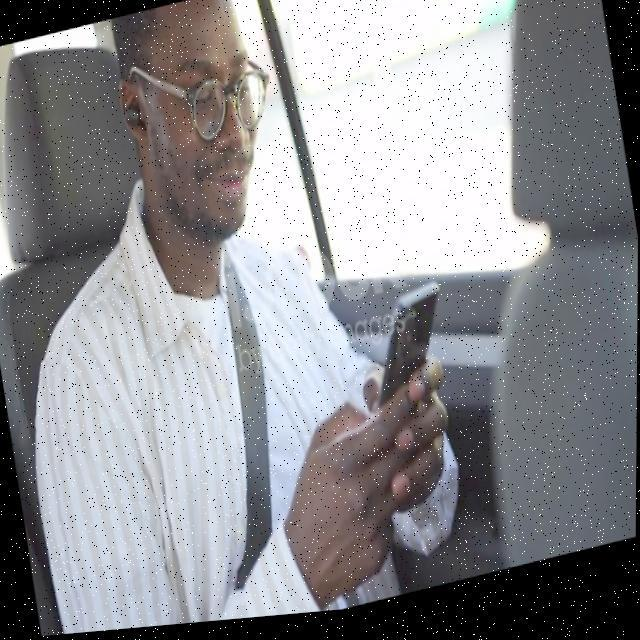PhoneCall: (363, 287, 455, 409)
